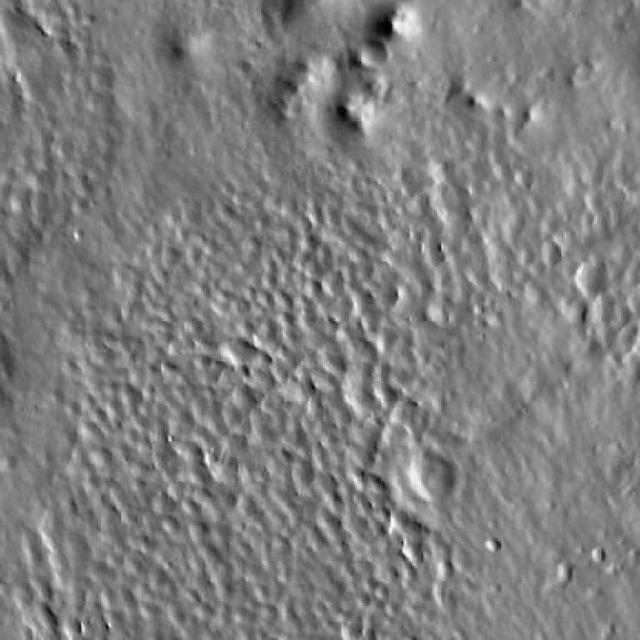crater: (388, 435, 475, 522), (408, 455, 450, 496), (573, 268, 604, 298), (552, 562, 572, 582)
